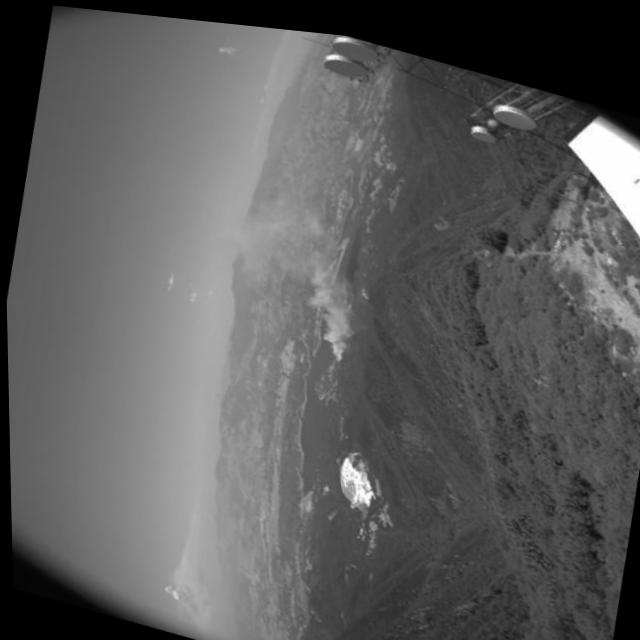smoke: (207, 166, 379, 371)
